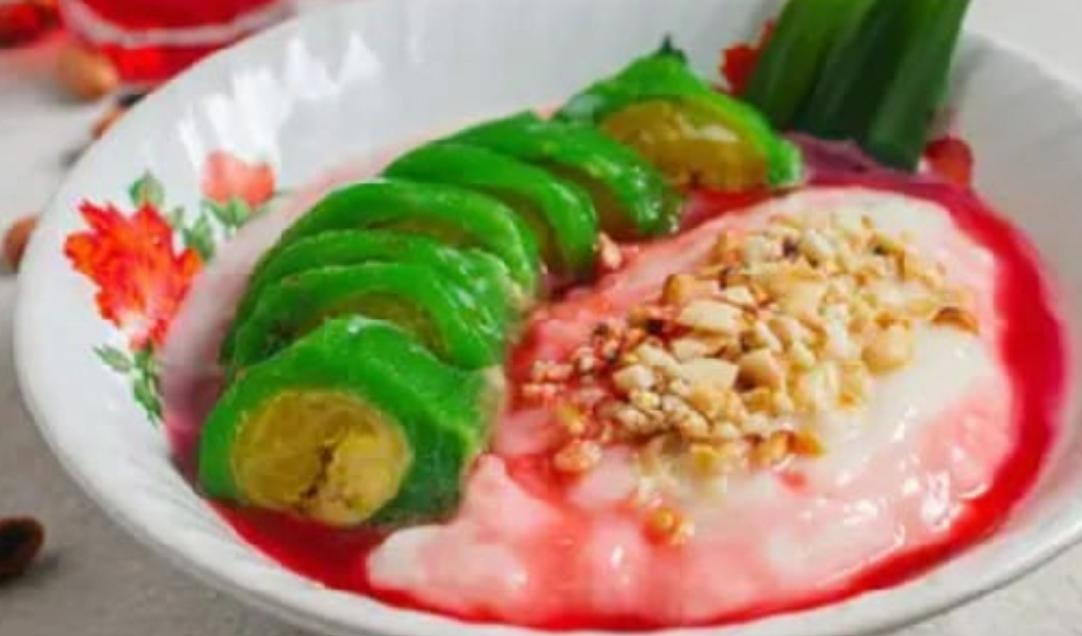pisang_ijo: (158, 325, 485, 538)
